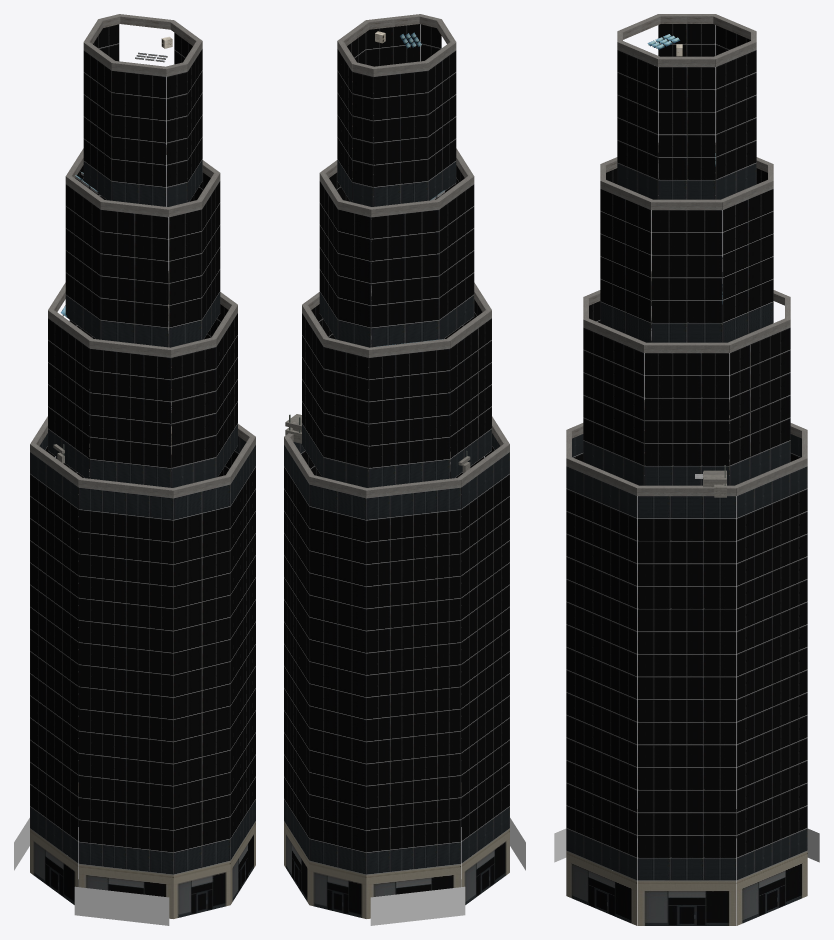
Rendered from nycity_20.gltf.
The picture shows the model from 3 angles, left to right: view 1: azimuth 30°, elevation 25°; view 2: azimuth 150°, elevation 25°; view 3: azimuth 270°, elevation 25°; orthographic projection. The views are drawn at different scales.
Parts seen in each view (by area): view 1: nycity_20; view 2: nycity_20; view 3: nycity_20.
Boxes of the visible parts, x1,y1,x2,y2 form: nycity_20: [14, 14, 255, 925]; nycity_20: [284, 14, 525, 925]; nycity_20: [554, 14, 819, 925].
Size of the model in its own units: 27.01 by 112 by 31.87.
18 materials, 10 textured.
